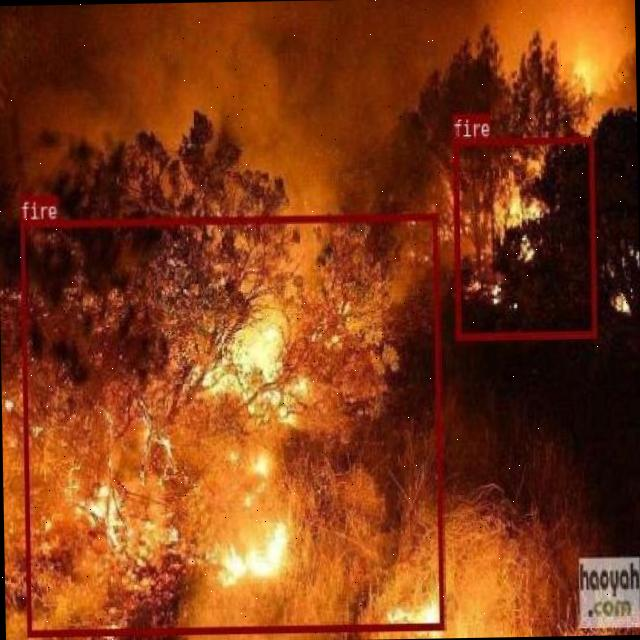fire: (19, 212, 442, 635), (451, 134, 596, 338)
